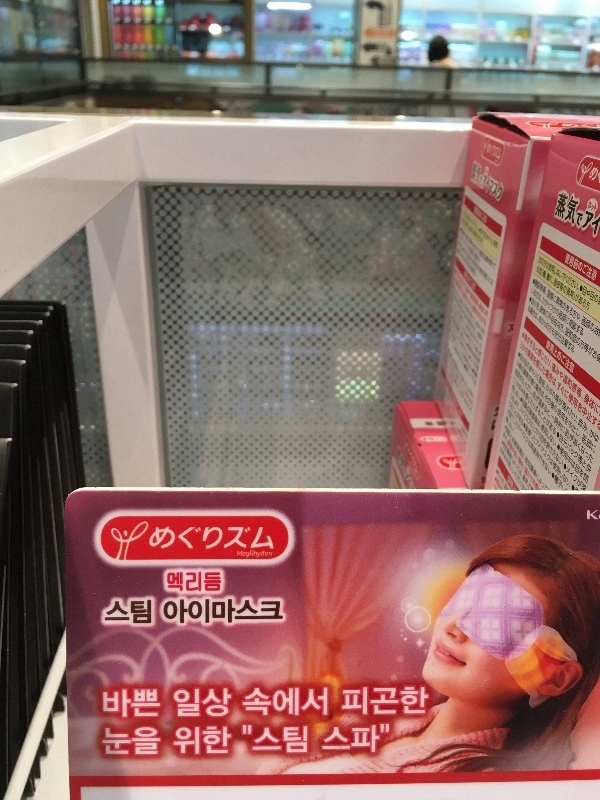text: (545, 235, 560, 558), (561, 235, 576, 558), (577, 235, 592, 558), (449, 153, 464, 420), (465, 153, 480, 420), (481, 153, 496, 420), (497, 153, 512, 420), (436, 153, 448, 420), (593, 235, 600, 558), (561, 189, 576, 243), (577, 189, 592, 243), (161, 524, 176, 559), (177, 524, 192, 559), (193, 524, 208, 559), (209, 524, 224, 559), (225, 524, 240, 559), (241, 524, 256, 559), (257, 524, 272, 559), (145, 688, 161, 719), (145, 727, 161, 757), (177, 724, 192, 756), (193, 724, 208, 756), (209, 724, 224, 756), (113, 688, 128, 719), (129, 688, 144, 719), (177, 688, 192, 719), (193, 688, 208, 719), (209, 688, 224, 719), (257, 724, 272, 755), (273, 724, 288, 755), (289, 724, 304, 755), (113, 727, 128, 757), (129, 727, 144, 757), (257, 687, 272, 717), (273, 687, 288, 717), (289, 687, 304, 717), (305, 687, 320, 717), (353, 686, 368, 716), (369, 686, 384, 716), (385, 686, 400, 716), (401, 686, 416, 716), (337, 724, 352, 753), (353, 724, 368, 753), (369, 724, 384, 753), (242, 724, 256, 755), (113, 598, 128, 626), (129, 598, 144, 626), (408, 439, 416, 490), (177, 599, 192, 625), (193, 599, 208, 625), (209, 599, 224, 625), (225, 599, 240, 625), (241, 599, 256, 625), (257, 599, 272, 625), (149, 524, 160, 559), (593, 189, 600, 243), (417, 686, 429, 716), (245, 687, 256, 717), (177, 571, 192, 593), (193, 571, 208, 593), (543, 235, 544, 558), (342, 686, 352, 716), (165, 599, 176, 625), (209, 571, 222, 593), (103, 688, 112, 719), (513, 153, 514, 420), (327, 724, 336, 753), (273, 599, 283, 625), (225, 688, 233, 719), (583, 159, 592, 186), (104, 727, 112, 757), (321, 687, 329, 717), (225, 724, 232, 756), (486, 141, 496, 162), (145, 598, 152, 626), (593, 159, 600, 186), (168, 571, 176, 593), (417, 439, 420, 490), (497, 141, 504, 162), (385, 724, 390, 753), (273, 524, 277, 559), (173, 688, 176, 719), (305, 724, 308, 755), (241, 550, 250, 558), (262, 551, 272, 557), (559, 189, 560, 243), (508, 322, 512, 334), (251, 550, 256, 558), (257, 550, 262, 558), (513, 322, 516, 334), (175, 724, 176, 756), (238, 550, 240, 558)
